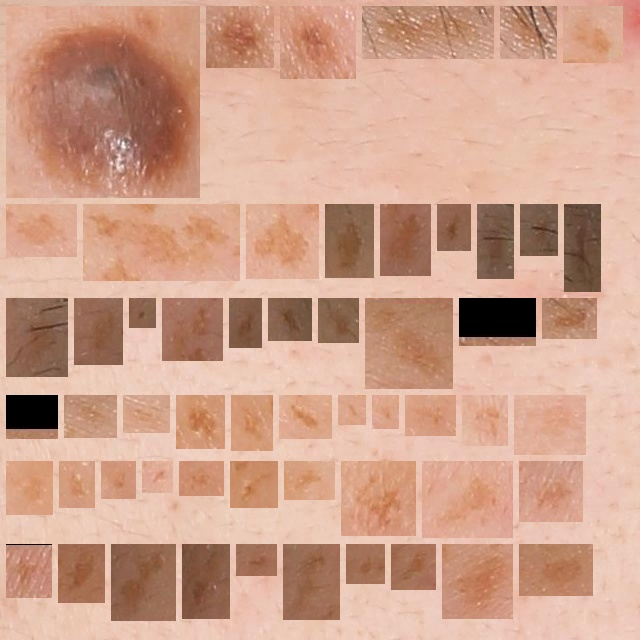melasma: (91, 212, 232, 273), (373, 306, 445, 381), (430, 469, 505, 530), (370, 14, 486, 51), (349, 469, 408, 528), (254, 212, 311, 271), (450, 552, 505, 611), (119, 552, 168, 613), (14, 306, 60, 369), (522, 403, 578, 447), (291, 552, 332, 612), (527, 469, 575, 514), (170, 306, 215, 353), (527, 552, 585, 588), (14, 212, 69, 249), (388, 212, 423, 268), (467, 306, 528, 338), (333, 212, 366, 270), (190, 552, 222, 611), (571, 14, 615, 55), (82, 306, 115, 357), (508, 14, 549, 51), (572, 212, 593, 284), (66, 552, 97, 595), (184, 403, 217, 441), (485, 212, 506, 271), (14, 469, 45, 507), (14, 552, 44, 590), (470, 403, 500, 438), (239, 403, 265, 443), (287, 403, 324, 431), (14, 403, 50, 431), (72, 403, 109, 430), (238, 469, 270, 500), (550, 306, 589, 331), (413, 403, 448, 428), (399, 552, 428, 582), (292, 469, 327, 492), (528, 212, 550, 248), (276, 306, 304, 333), (326, 306, 351, 335), (131, 403, 162, 425), (67, 469, 87, 500), (237, 306, 254, 340), (445, 212, 463, 243), (354, 552, 377, 576), (187, 469, 216, 488), (109, 469, 128, 491), (244, 552, 269, 568), (150, 469, 165, 485), (380, 403, 391, 421), (346, 403, 358, 417), (137, 306, 148, 320)
nevus: (14, 14, 192, 190), (288, 14, 348, 71), (214, 14, 266, 60)
